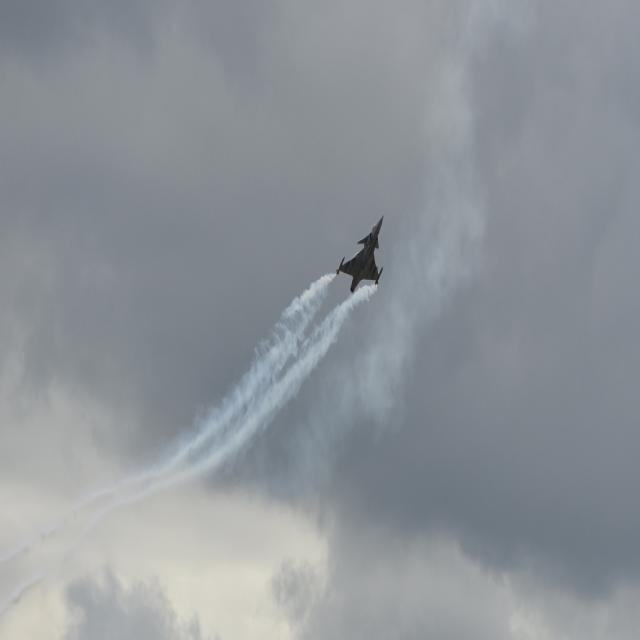MIL_Plane: (336, 214, 384, 294)
